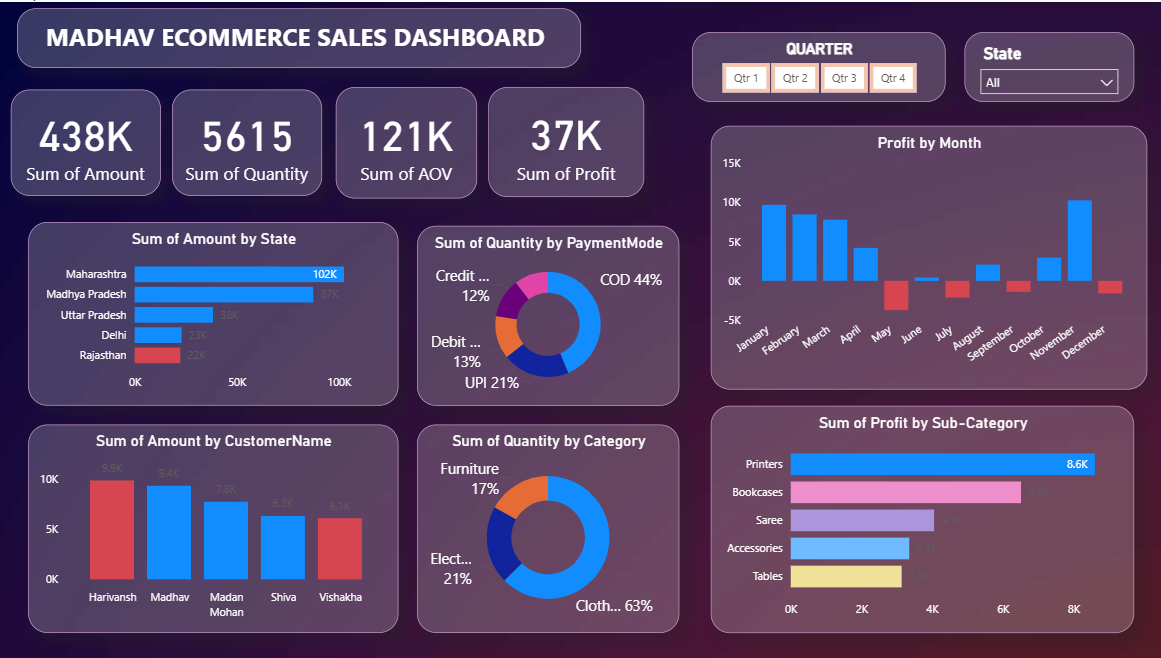

This screenshot's page, from the dashboard's own definition file:
{"tool":"powerbi","page":{"name":"Page 1","canvas":[1280,720],"ordinal":0},"visuals":[{"type":"textbox","box":[22,6.9,618.9,65.9],"z":0},{"type":"columnChart","title":"Profit by Month","fields":{"Category":["Orders.Order Date.Variation.Date Hierarchy.Month"],"Y":["Details.Profit"]},"box":[783.5,135.8,478.9,289.5],"z":1},{"type":"barChart","fields":{"Category":["Details.Sub-Category"],"Y":["Details.Profit"]},"box":[783.5,443.2,465.2,249.7],"z":2},{"type":"donutChart","fields":{"Category":["Details.Category"],"Y":["Details.Quantity"]},"box":[461.1,463.8,288.2,229.2],"z":3},{"type":"donutChart","fields":{"Category":["Details.PaymentMode"],"Y":["Details.Quantity"]},"box":[461.1,245.6,288.2,197.6],"z":4},{"type":"card","fields":{"Values":["Details.Amount"]},"box":[15.1,96.1,164.7,116.6],"z":5},{"type":"card","fields":{"Values":["Details.Quantity"]},"box":[192.1,96.1,164.7,116.6],"z":6},{"type":"card","fields":{"Values":["Details.Profit"]},"box":[539.3,93.3,171.5,120.8],"z":7},{"type":"card","fields":{"Values":["Details.AOV"]},"box":[371.9,93.3,155.1,122.1],"z":8},{"type":"barChart","fields":{"Category":["Orders.State"],"Y":["Details.Amount"]},"box":[34.3,241.5,406.2,201.7],"z":9},{"type":"columnChart","fields":{"Category":["Orders.CustomerName"],"Y":["Details.Amount"]},"box":[34.3,463.8,406.2,229.2],"z":10},{"type":"slicer","title":"QUARTER","fields":{"Values":["Orders.Order Date.Variation.Date Hierarchy.Quarter"]},"box":[763,32.9,278.6,76.8],"z":11},{"type":"slicer","fields":{"Values":["Orders.State"]},"box":[1062.1,32.9,186.6,76.8],"z":12}]}

Visuals, with their boxes in screenshot pixels (x1, y1, x2, y2), scaled from the page's 1280x720 canvas onto the 1161x658 screenshot:
textbox: 20/6/581/67
"Profit by Month" columnChart: 711/124/1145/389
barChart - Details.Sub-Category x Details.Profit: 711/405/1133/633
donutChart - Details.Category x Details.Quantity: 418/424/680/633
donutChart - Details.PaymentMode x Details.Quantity: 418/224/680/405
card - Details.Amount: 14/88/163/194
card - Details.Quantity: 174/88/324/194
card - Details.Profit: 489/85/645/196
card - Details.AOV: 337/85/478/197
barChart - Orders.State x Details.Amount: 31/221/400/405
columnChart - Orders.CustomerName x Details.Amount: 31/424/400/633
"QUARTER" slicer: 692/30/945/100
slicer - Orders.State: 963/30/1133/100
